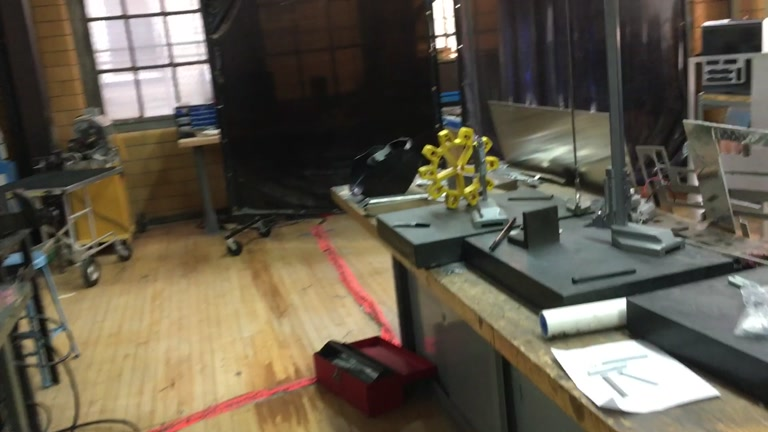gear: (417, 125, 500, 211)
